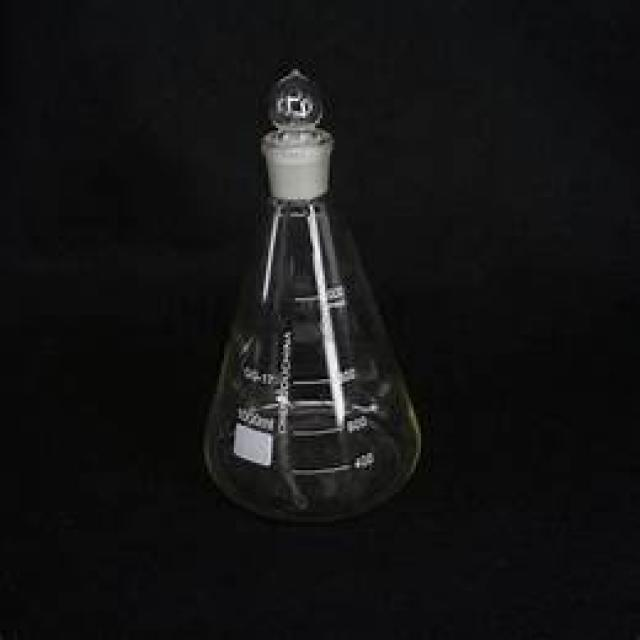Titrarion: (188, 61, 430, 514)
